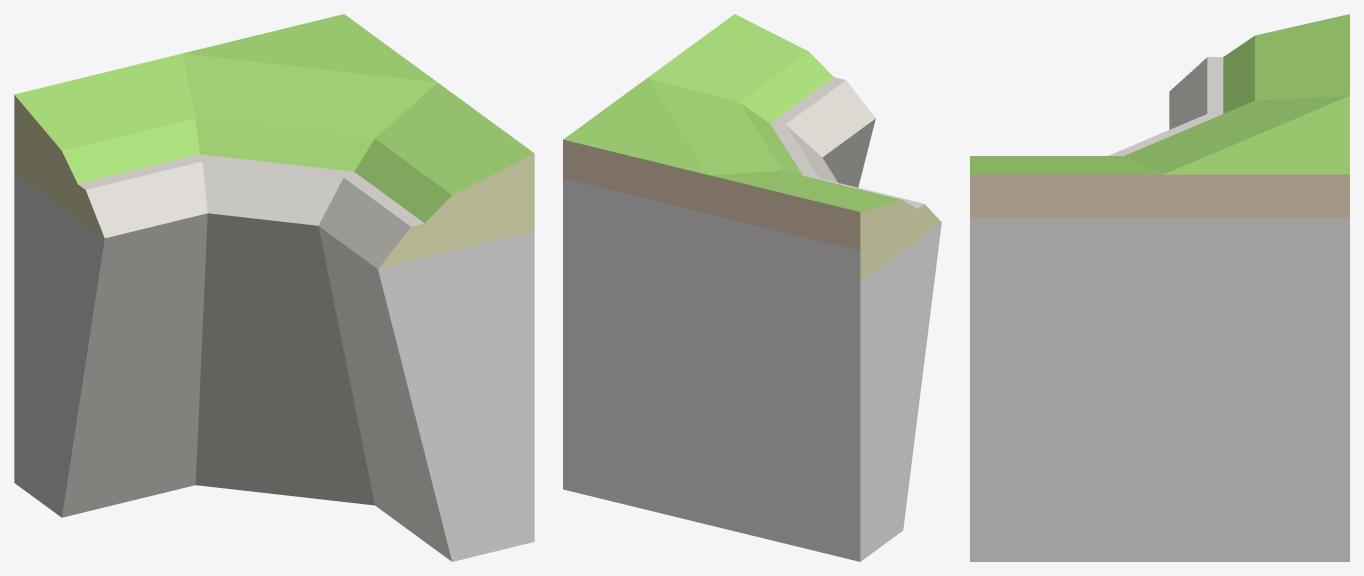
The model's file is Basic_Curve_Inner_2x2_Narrow_Top.glb.
The picture shows the model from 3 angles, left to right: view 1: azimuth 30°, elevation 25°; view 2: azimuth 150°, elevation 25°; view 3: azimuth 270°, elevation 25°; orthographic projection. The views are drawn at different scales.
Visible parts, largest first — view 1: Basic_Curve_Inner_2x2_Narrow_Top; view 2: Basic_Curve_Inner_2x2_Narrow_Top; view 3: Basic_Curve_Inner_2x2_Narrow_Top.
Boxes of the visible parts, x1=… form: Basic_Curve_Inner_2x2_Narrow_Top: x1=14, y1=14, x2=534, y2=561; Basic_Curve_Inner_2x2_Narrow_Top: x1=563, y1=14, x2=941, y2=561; Basic_Curve_Inner_2x2_Narrow_Top: x1=970, y1=14, x2=1349, y2=561.
Size of the model in its own units: 200 by 225 by 200.
